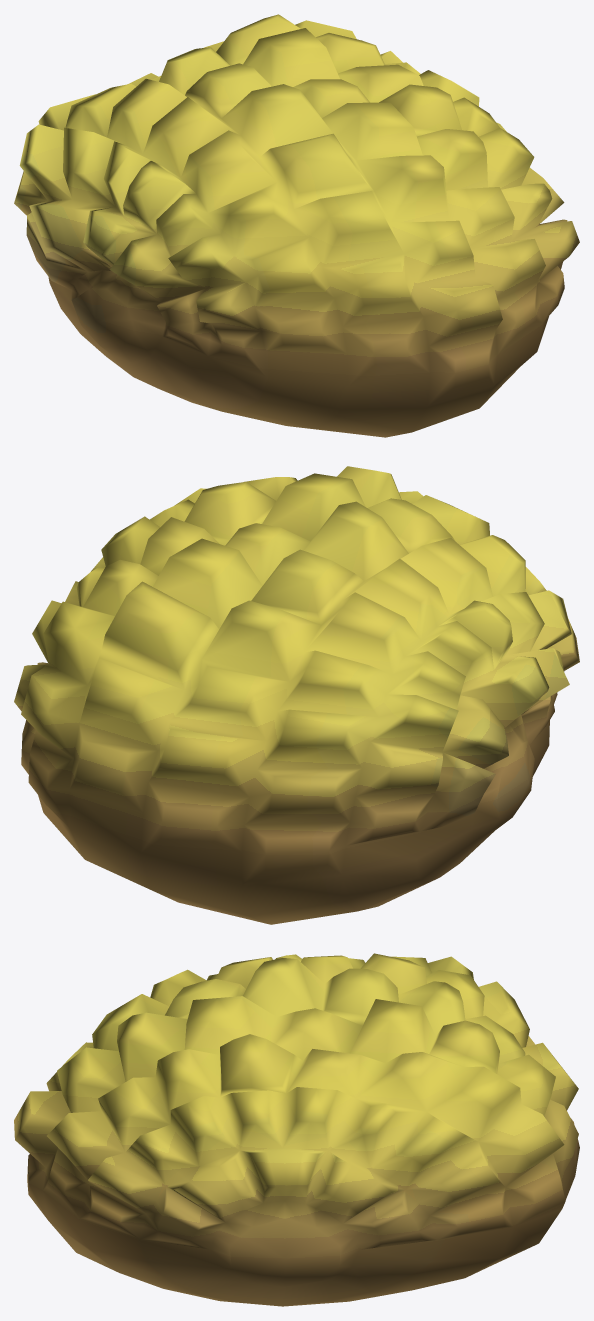
The model's file is model_sponge_01.fbx.
3 renders of one model, top to bottom at view 1: azimuth 30°, elevation 25°; view 2: azimuth 150°, elevation 25°; view 3: azimuth 270°, elevation 25°, orthographic. The views are drawn at different scales.
Visible parts, largest first — view 1: polySurface1; view 2: polySurface1; view 3: polySurface1.
Part boxes in pixels (x1=…): polySurface1: x1=14, y1=14, x2=579, y2=437; polySurface1: x1=14, y1=466, x2=579, y2=924; polySurface1: x1=14, y1=953, x2=579, y2=1306.
Size of the model in its own units: 9.69 by 6.7 by 11.62.
